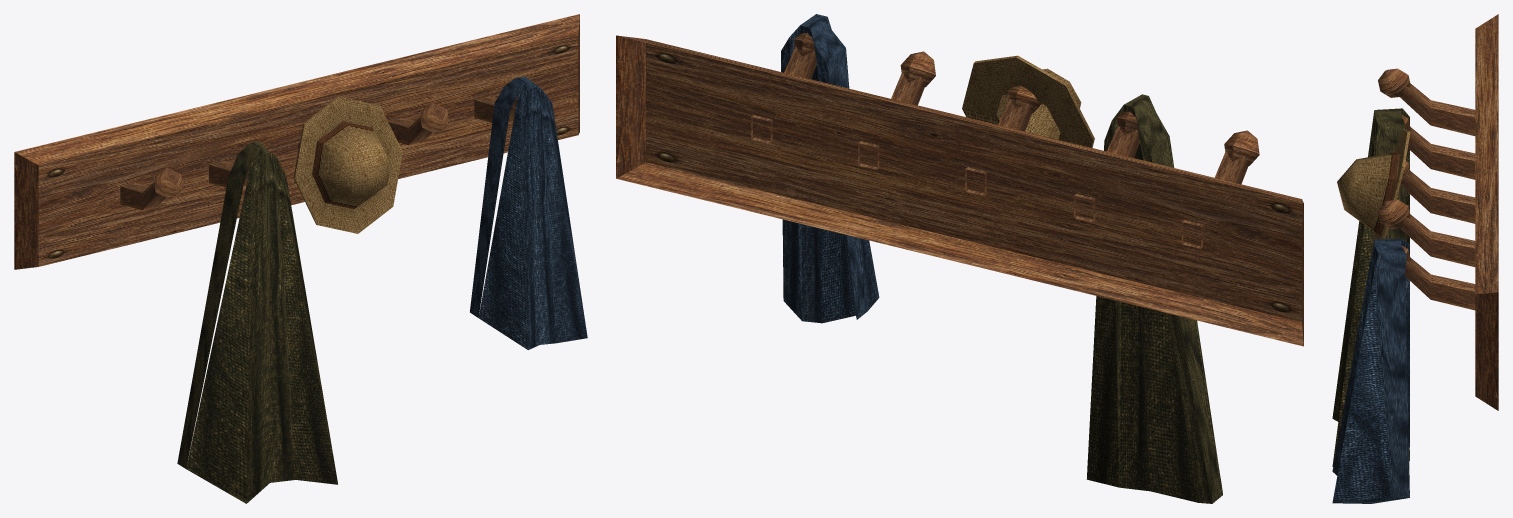
Rendered from mm9_deco_coatrack.glb.
3 views of the same model, side by side, from view 1: azimuth 30°, elevation 25°; view 2: azimuth 150°, elevation 25°; view 3: azimuth 270°, elevation 25° (orthographic). The views are drawn at different scales.
Visible parts, largest first — view 1: Coatrack; view 2: Coatrack; view 3: Coatrack.
Boxes of the visible parts, x1,y1,x2,y2 form: Coatrack: [14, 14, 587, 503]; Coatrack: [616, 14, 1303, 503]; Coatrack: [1332, 14, 1498, 503].
Size of the model in its own units: 1.9 by 1.13 by 0.4784.
2 materials, 2 textured.
